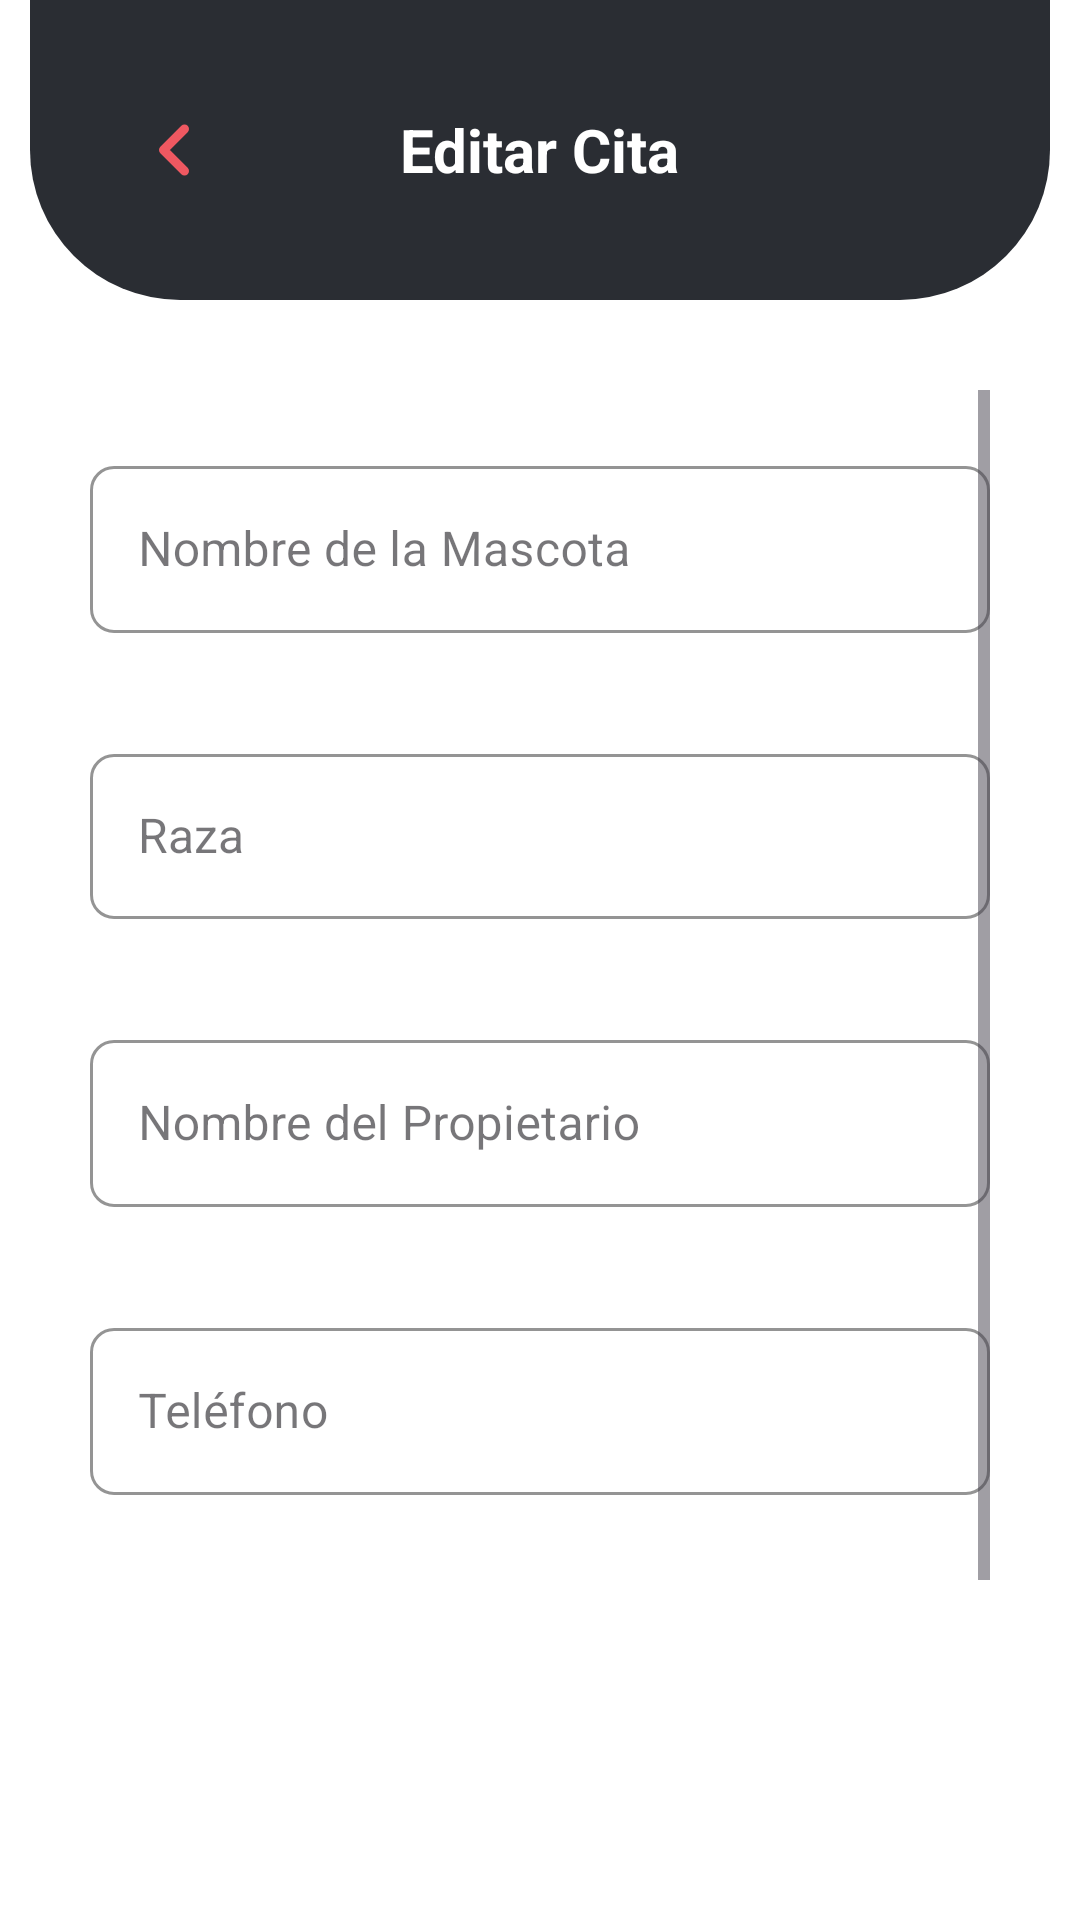

Named icons in this screenshot (1080px×1920px) and their bounding boxes, (x1, y1, x2, y2):
Volver: (159, 124, 189, 176)
